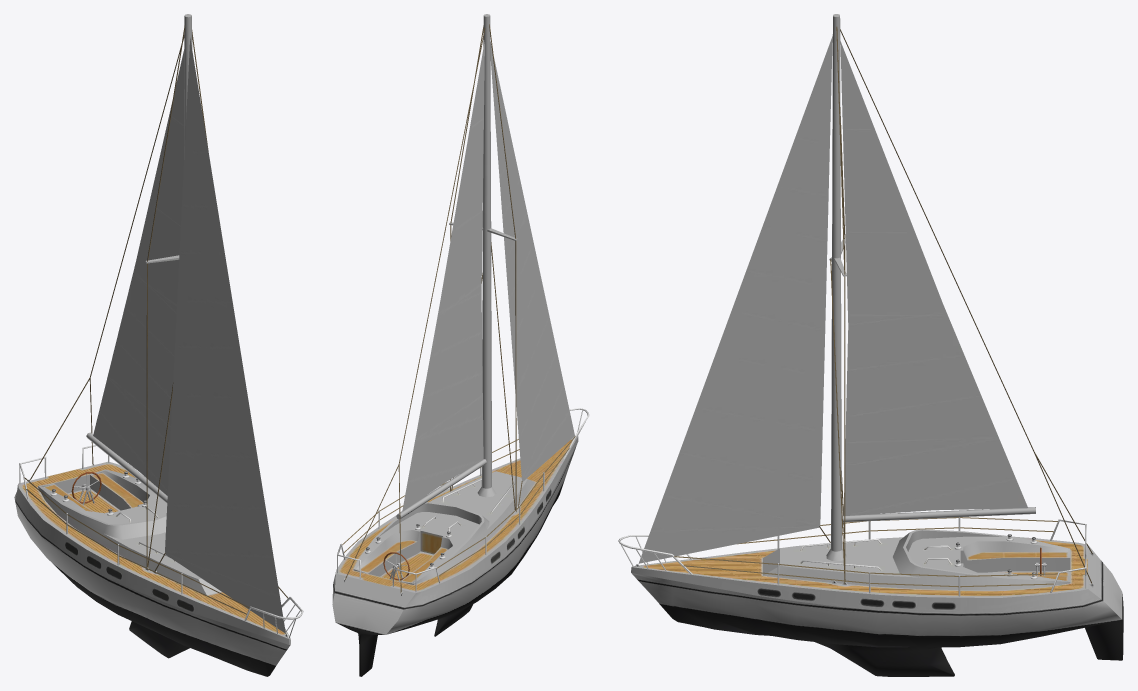
File: realsailboat.glb
3 renders of one model, left to right at view 1: azimuth 30°, elevation 25°; view 2: azimuth 150°, elevation 25°; view 3: azimuth 270°, elevation 25°, orthographic. The views are drawn at different scales.
Parts seen in each view (by area): view 1: Sailboat_01 - Default_0; view 2: Sailboat_01 - Default_0; view 3: Sailboat_01 - Default_0.
Part boxes in pixels (bbox=[...]): Sailboat_01 - Default_0: bbox=[14, 14, 303, 676]; Sailboat_01 - Default_0: bbox=[332, 14, 589, 676]; Sailboat_01 - Default_0: bbox=[618, 14, 1123, 676].
Bounding box in the file's own units: 1.24 × 6 × 4.15.
1 material, 1 textured.
